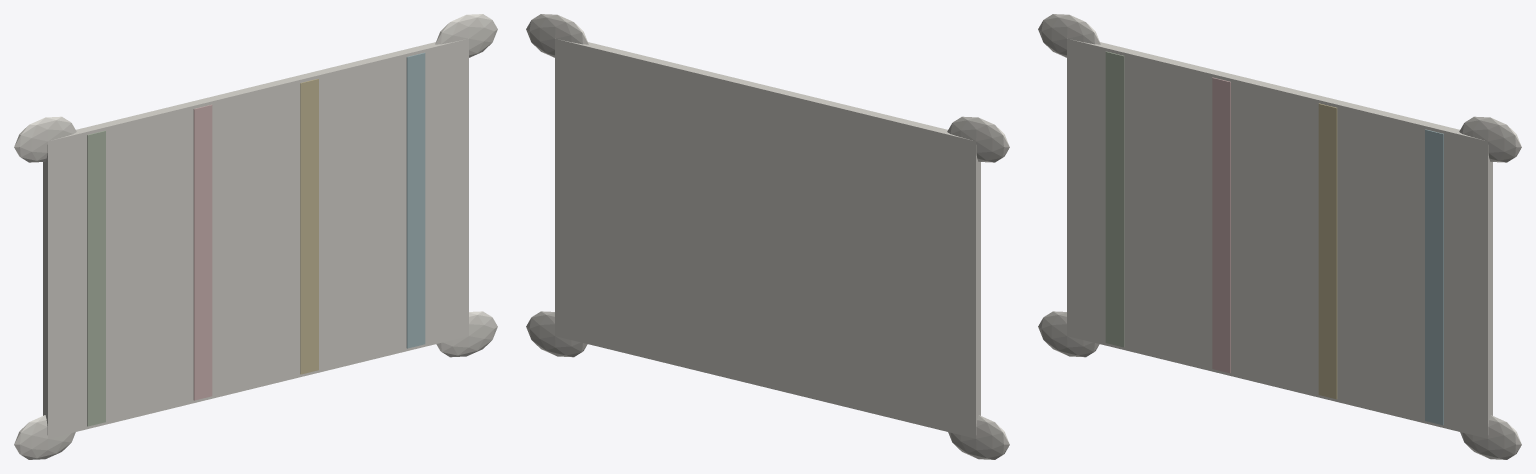
Rendered from area_rug.glb.
3 renders of one model, left to right at view 1: azimuth 30°, elevation 25°; view 2: azimuth 150°, elevation 25°; view 3: azimuth 330°, elevation 25°, orthographic.
Visible parts, largest first — view 1: rug_core, stripe_3, stripe_1, stripe_0, stripe_2, rug_corner_-1_1, rug_corner_1_1, rug_corner_-1_-1, rug_corner_1_-1; view 2: rug_core, rug_corner_-1_1, rug_corner_1_1, rug_corner_-1_-1, rug_corner_1_-1; view 3: rug_core, stripe_0, stripe_2, stripe_3, stripe_1, rug_corner_1_1, rug_corner_-1_1, rug_corner_1_-1, rug_corner_-1_-1.
Part boxes in pixels (x1,y1,x2,y2): rug_core: (43, 38, 468, 438); stripe_3: (406, 52, 425, 348); stripe_1: (193, 104, 212, 400); stripe_0: (87, 130, 105, 426); stripe_2: (300, 78, 318, 374); rug_corner_-1_1: (14, 116, 76, 162); rug_corner_1_1: (435, 14, 497, 57); rug_corner_-1_-1: (14, 415, 75, 459); rug_corner_1_-1: (436, 311, 497, 357); rug_core: (555, 38, 980, 438); rug_corner_-1_1: (947, 116, 1009, 162); rug_corner_1_1: (526, 14, 588, 57); rug_corner_-1_-1: (948, 415, 1009, 459); rug_corner_1_-1: (526, 311, 587, 357); rug_core: (1067, 38, 1492, 438); stripe_0: (1105, 51, 1124, 347); stripe_2: (1318, 103, 1337, 399); stripe_3: (1425, 129, 1443, 425); stripe_1: (1212, 77, 1230, 373); rug_corner_1_1: (1459, 116, 1521, 162); rug_corner_-1_1: (1038, 14, 1100, 57); rug_corner_1_-1: (1460, 415, 1521, 459); rug_corner_-1_-1: (1038, 311, 1099, 357).
Size of the model in its own units: 2 by 1.35 by 0.0395.
